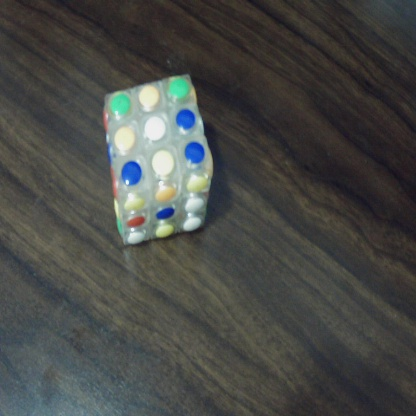Rubix Cube: (99, 73, 215, 246)
